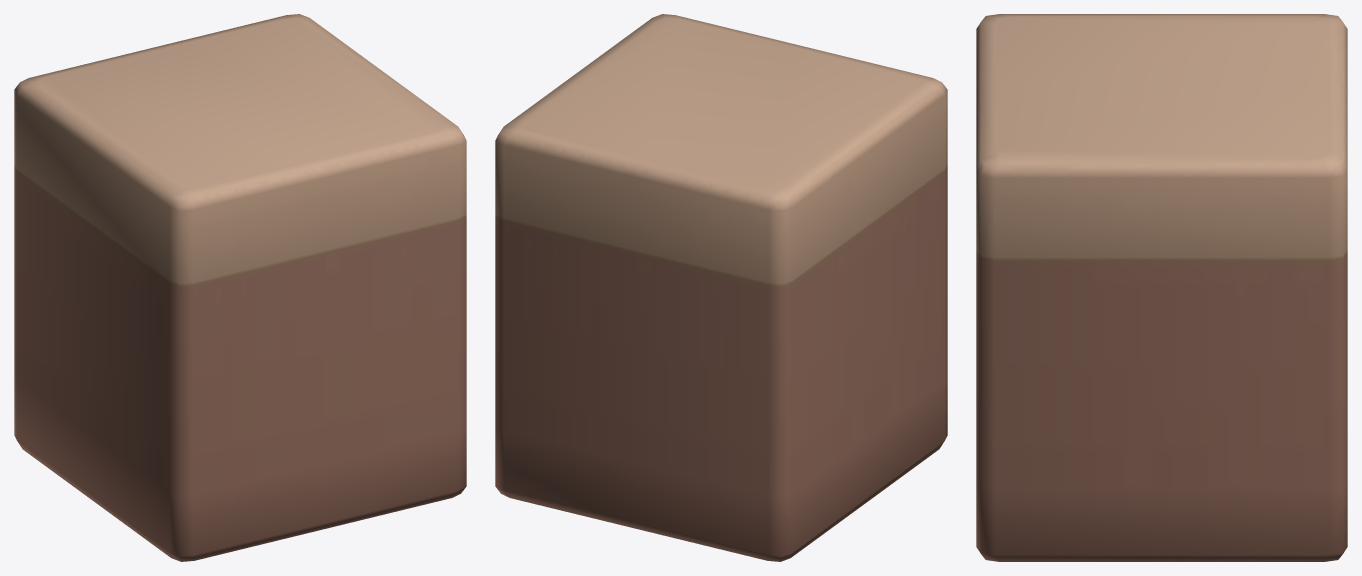
Rendered from Props.fbx.
The picture shows the model from 3 angles, left to right: view 1: azimuth 30°, elevation 25°; view 2: azimuth 150°, elevation 25°; view 3: azimuth 270°, elevation 25°; orthographic projection. The views are drawn at different scales.
Parts seen in each view (by area): view 1: Box03-2; view 2: Box03-2; view 3: Box03-2.
Part boxes in pixels (x1,y1,x2,y2): Box03-2: (14,14,466,561); Box03-2: (495,14,947,561); Box03-2: (976,14,1347,561).
Bounding box in the file's own units: 4.2 × 5.01 × 4.2.
